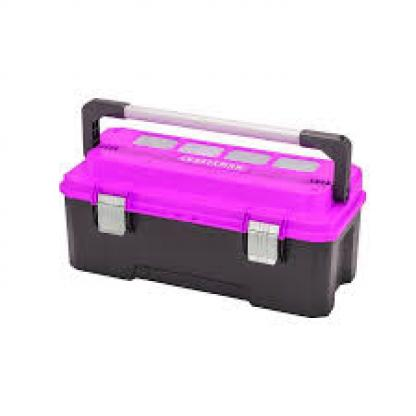Tool Box: (55, 90, 370, 321)
